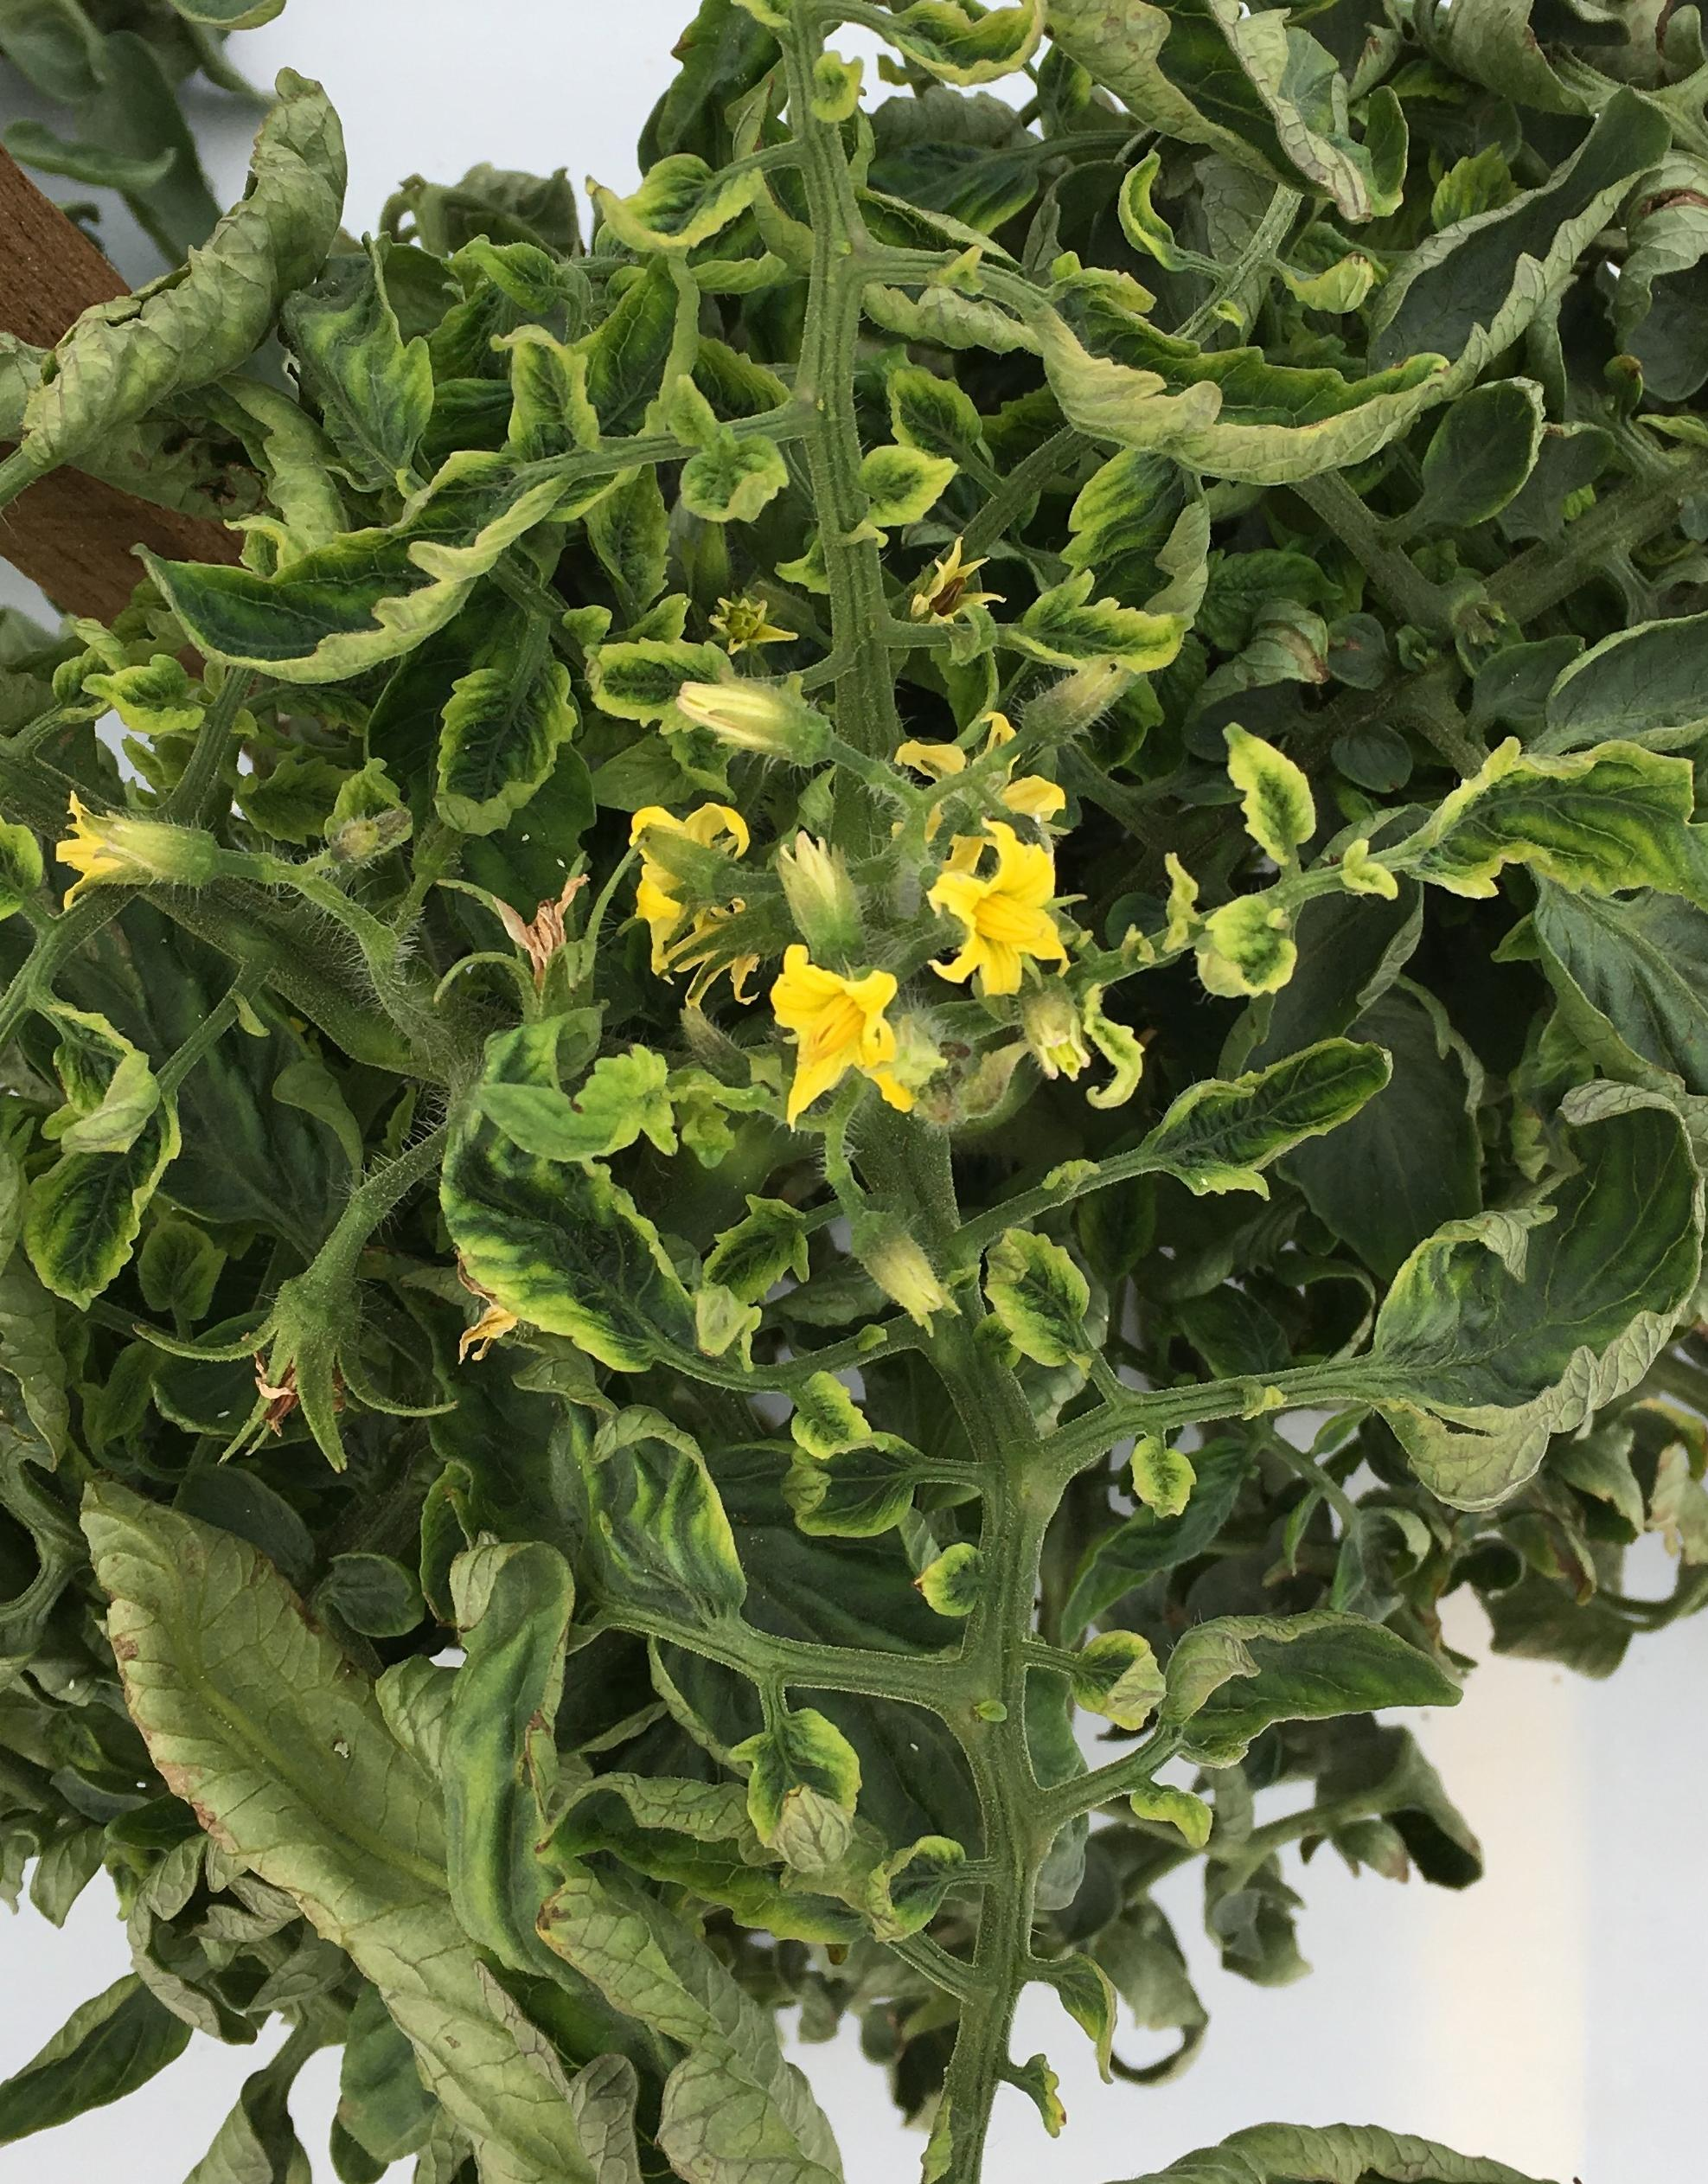Tomato leaf yellow virus: (897, 193, 1586, 477), (1341, 1037, 1708, 1565), (129, 326, 618, 707), (402, 1000, 744, 1397), (427, 1299, 781, 1634), (1366, 697, 1708, 1026), (0, 993, 190, 1351), (397, 626, 590, 835)
